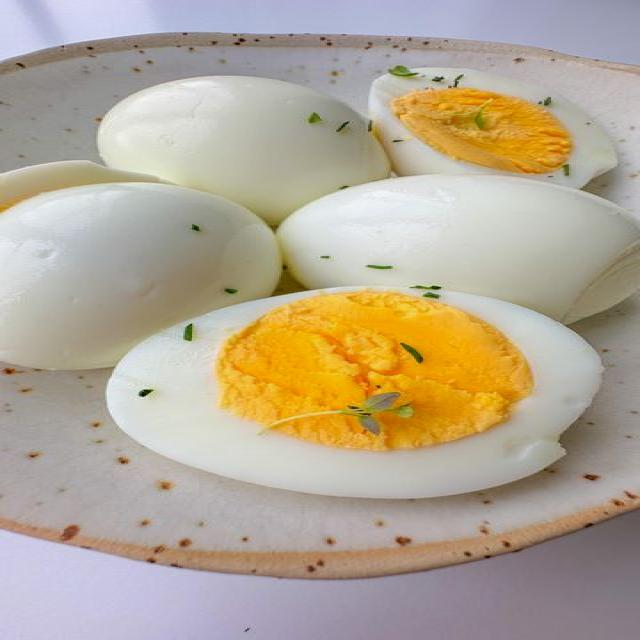telur rebus: (105, 287, 603, 501)
